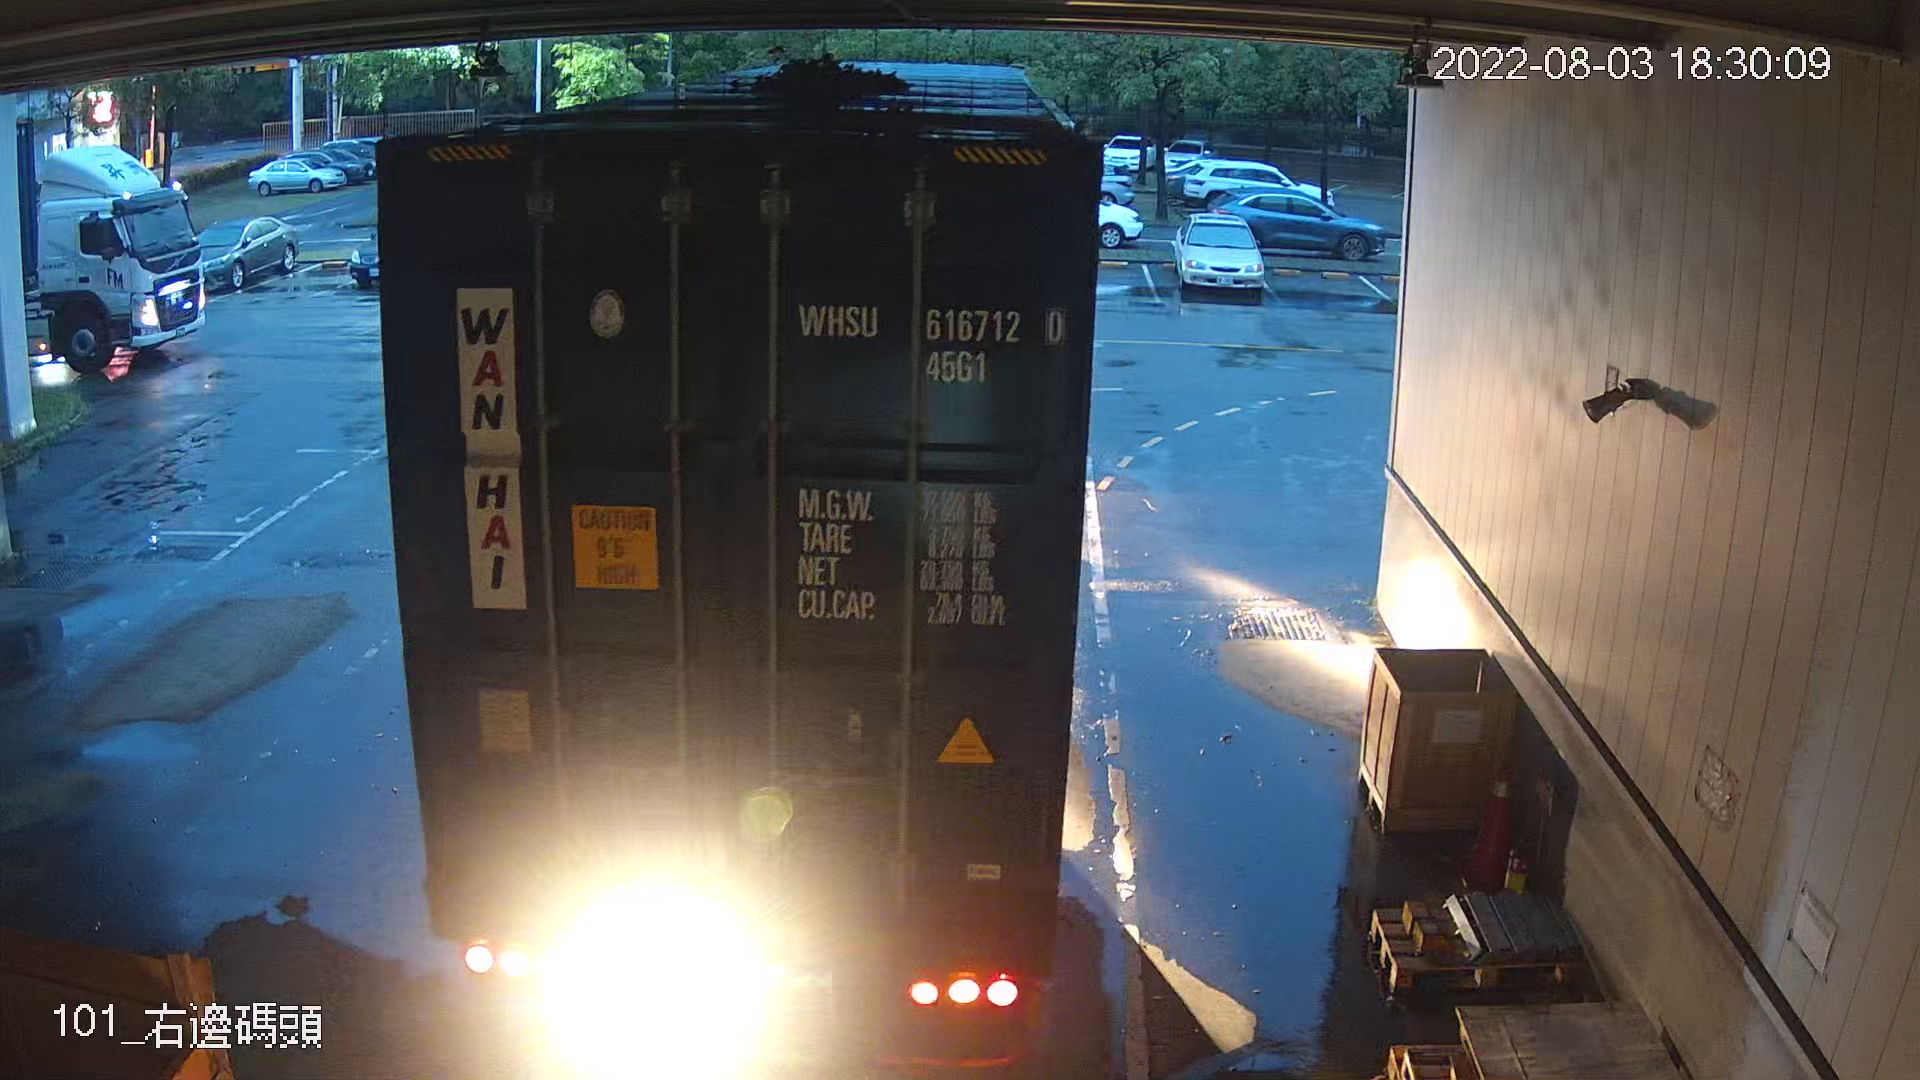container: (785, 286, 1073, 398)
